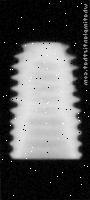Osstem Implant: (10, 41, 82, 160)
